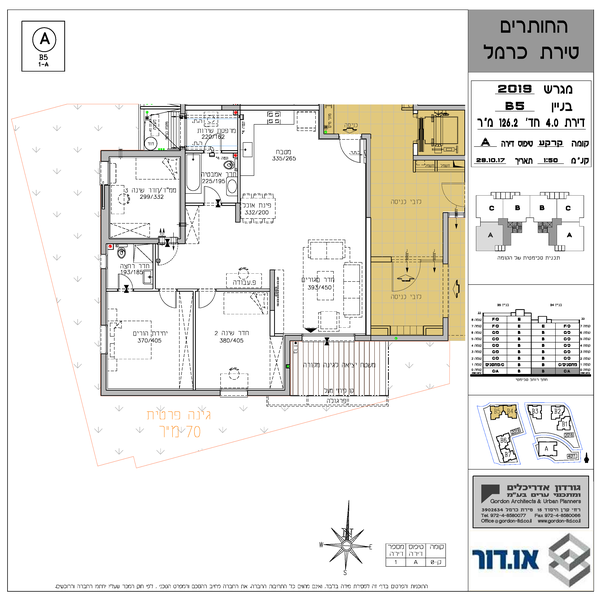door: (393, 257, 422, 294), (341, 131, 364, 164), (441, 179, 469, 206), (203, 124, 225, 154), (159, 238, 181, 268), (157, 289, 179, 312), (118, 269, 137, 294), (197, 286, 217, 309), (203, 184, 220, 205)
room: (237, 104, 372, 223), (267, 223, 372, 341), (98, 285, 197, 397), (191, 286, 293, 394), (99, 151, 188, 246), (367, 257, 450, 341), (178, 105, 242, 206)
wall: (97, 184, 110, 241), (107, 389, 220, 395), (181, 157, 187, 245), (102, 151, 186, 157), (99, 269, 108, 325), (367, 134, 373, 218), (353, 335, 448, 340), (237, 113, 241, 218), (411, 104, 462, 112), (99, 355, 108, 394), (286, 334, 292, 390), (443, 212, 449, 265), (247, 390, 289, 396), (416, 156, 464, 161), (108, 239, 159, 243), (320, 104, 324, 137)
window: (100, 162, 114, 185), (99, 327, 110, 352), (225, 384, 246, 396)
